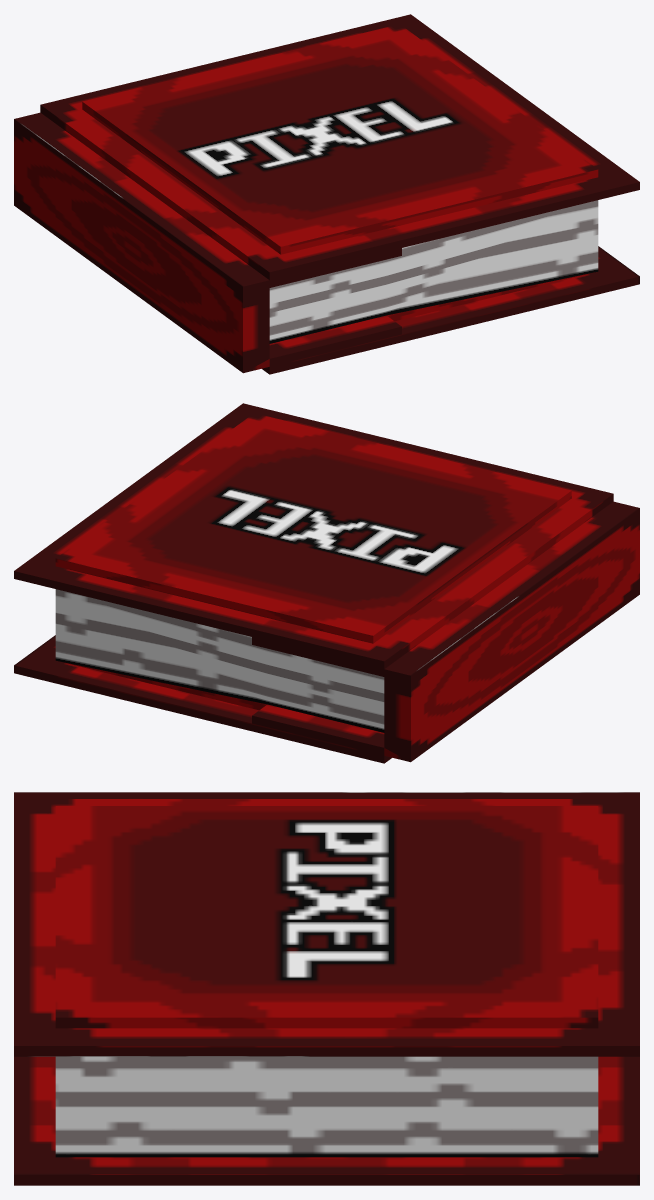
Rendered from LIBRO.fbx.
The picture shows the model from 3 angles, top to bottom: view 1: azimuth 30°, elevation 25°; view 2: azimuth 150°, elevation 25°; view 3: azimuth 270°, elevation 25°; orthographic projection. The views are drawn at different scales.
Visible parts, largest first — view 1: Cube.001; view 2: Cube.001; view 3: Cube.001.
Part boxes in pixels (x1,y1,x2,y2): Cube.001: [14, 14, 639, 374]; Cube.001: [14, 403, 639, 763]; Cube.001: [14, 792, 639, 1185].
Bounding box in the file's own units: 209 × 59.29 × 209.
